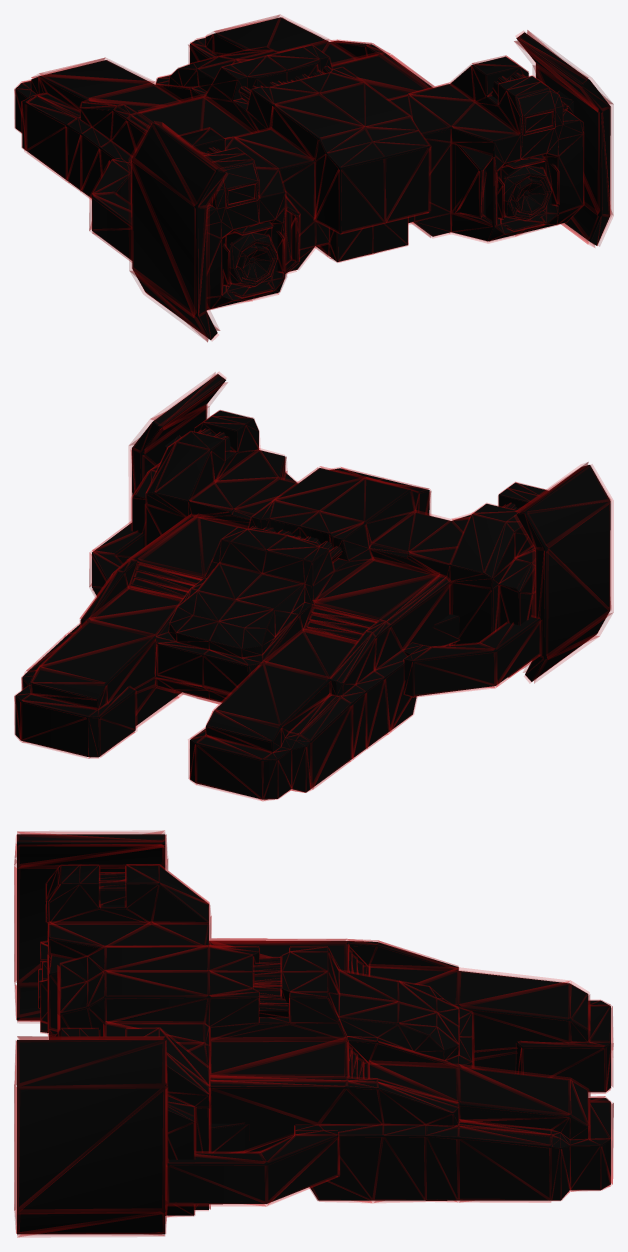
Rendered from heavyRacer.obj.
The picture shows the model from 3 angles, top to bottom: view 1: azimuth 30°, elevation 25°; view 2: azimuth 150°, elevation 25°; view 3: azimuth 270°, elevation 25°; orthographic projection. The views are drawn at different scales.
Parts seen in each view (by area): view 1: 12772001_none_12772001_none_Material.069, 12772001_none_12772001_none_Glow; view 2: 12772001_none_12772001_none_Material.069, 12772001_none_12772001_none_Glow; view 3: 12772001_none_12772001_none_Material.069, 12772001_none_12772001_none_Glow.
Boxes of the visible parts, x1=… form: 12772001_none_12772001_none_Material.069: x1=15, y1=17, x2=610, y2=339; 12772001_none_12772001_none_Glow: x1=14, y1=14, x2=613, y2=342; 12772001_none_12772001_none_Material.069: x1=15, y1=374, x2=610, y2=799; 12772001_none_12772001_none_Glow: x1=14, y1=372, x2=613, y2=801; 12772001_none_12772001_none_Material.069: x1=17, y1=834, x2=610, y2=1234; 12772001_none_12772001_none_Glow: x1=14, y1=830, x2=613, y2=1237.
Size of the model in its own units: 1.87 by 0.7348 by 2.04.
